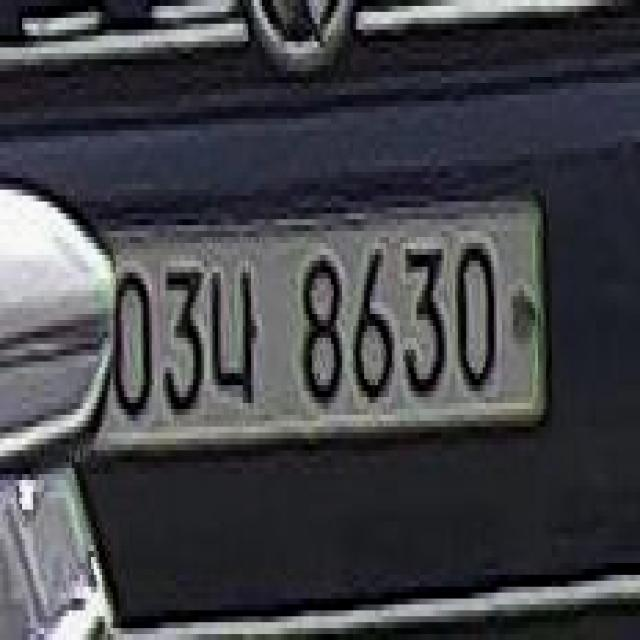illegal_plate: (91, 184, 549, 470)
